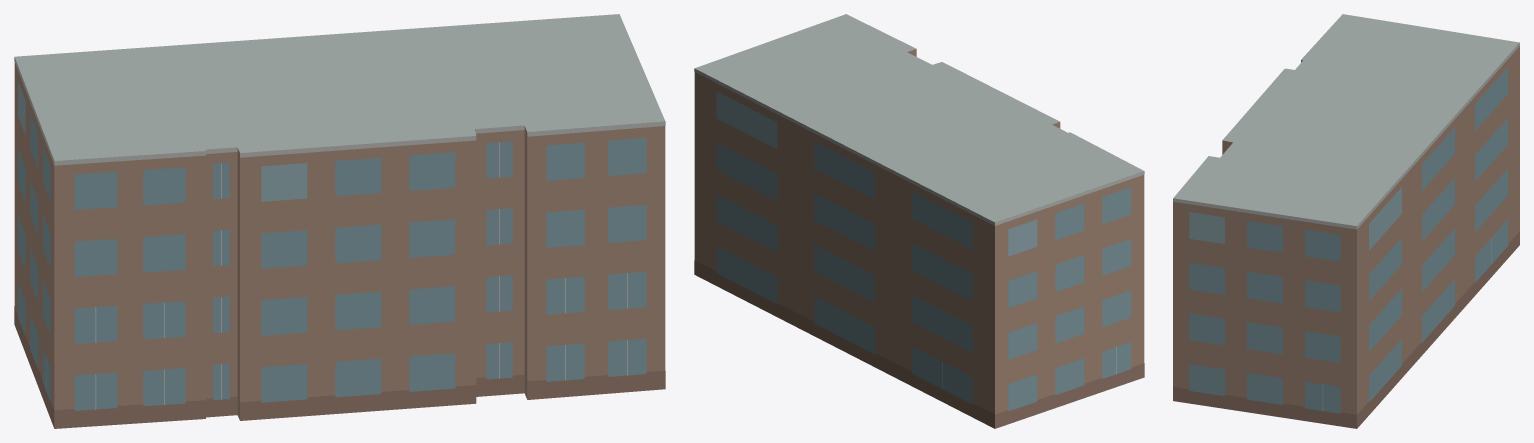
Rendered from survey-upis-32974435.glb.
3 renders of one model, left to right at view 1: azimuth 30°, elevation 25°; view 2: azimuth 150°, elevation 25°; view 3: azimuth 270°, elevation 25°, orthographic. The views are drawn at different scales.
Visible parts, largest first — view 1: survey-upis-32974435.tmp; view 2: survey-upis-32974435.tmp; view 3: survey-upis-32974435.tmp.
Part boxes in pixels (x1,y1,x2,y2): survey-upis-32974435.tmp: (14, 14, 665, 428); survey-upis-32974435.tmp: (694, 14, 1144, 428); survey-upis-32974435.tmp: (1173, 14, 1519, 428).
Size of the model in its own units: 32.11 by 14.3 by 22.18.
